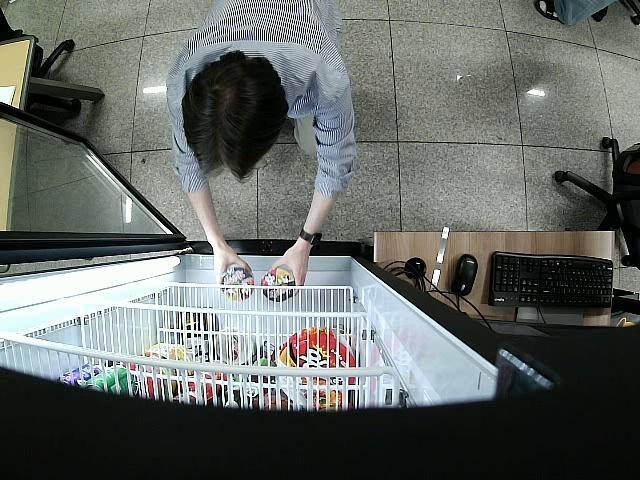08_buldak_S: (223, 269, 256, 300), (262, 272, 294, 302)
